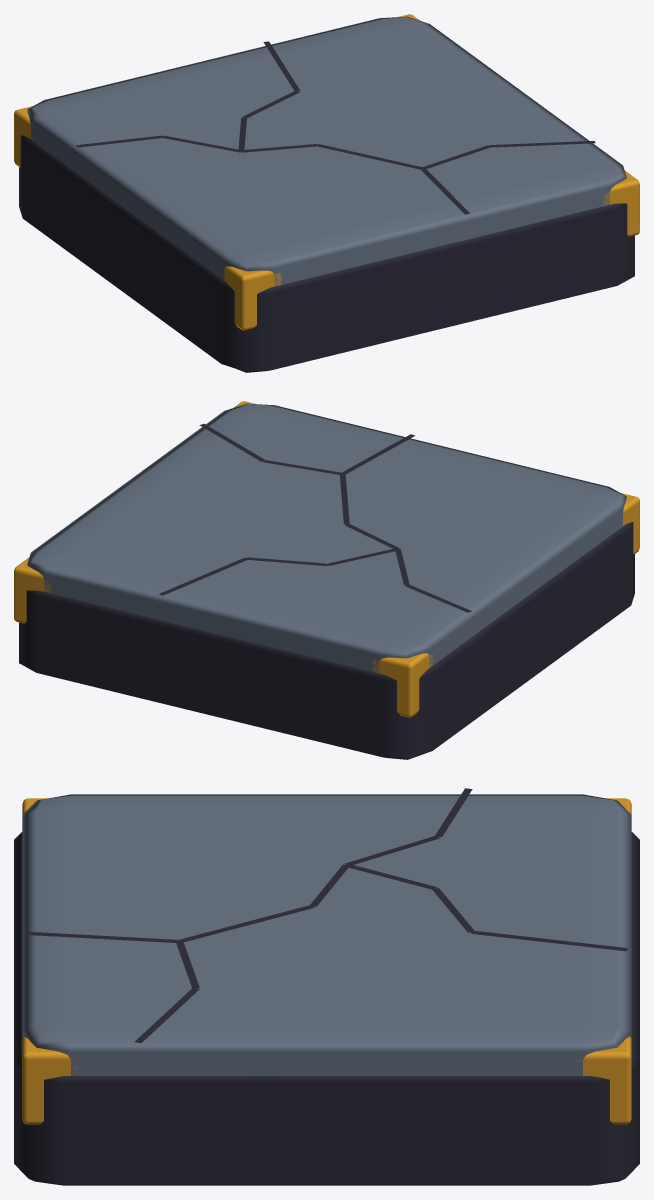
The model's file is cityscape-normal.glb.
3 views of the same model, one above another, from view 1: azimuth 30°, elevation 25°; view 2: azimuth 150°, elevation 25°; view 3: azimuth 270°, elevation 25° (orthographic). The views are drawn at different scales.
Parts seen in each view (by area): view 1: cityscape_normal_tile; view 2: cityscape_normal_tile; view 3: cityscape_normal_tile.
Boxes of the visible parts, box(x1,y1,x2,y2) form: cityscape_normal_tile: box(14, 14, 639, 372); cityscape_normal_tile: box(14, 401, 639, 759); cityscape_normal_tile: box(14, 788, 639, 1185).
Size of the model in its own units: 2.25 by 0.582 by 2.25.
